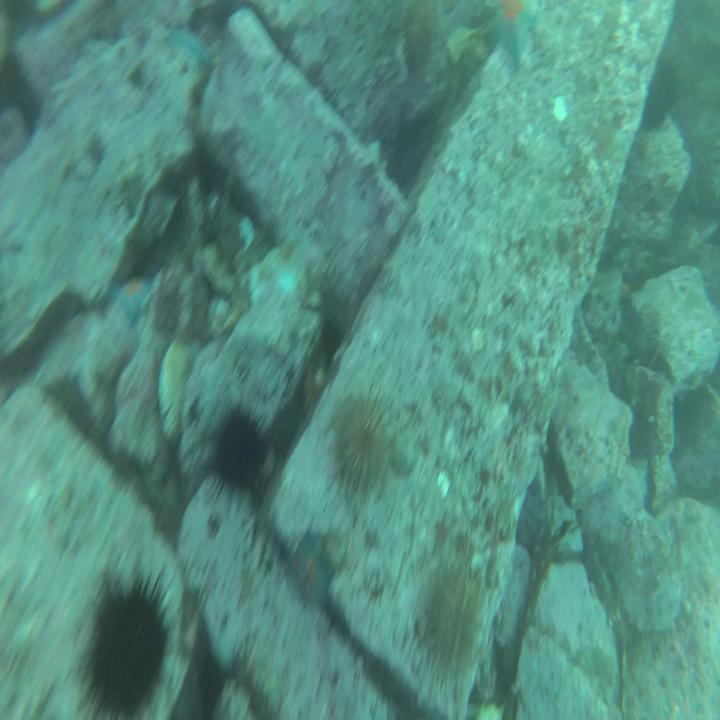echinus: (80, 575, 175, 720), (422, 561, 488, 674), (336, 397, 392, 494), (212, 405, 266, 497)
scallop: (157, 336, 197, 439)
starfish: (488, 0, 540, 51), (108, 271, 152, 323), (170, 19, 211, 62)
